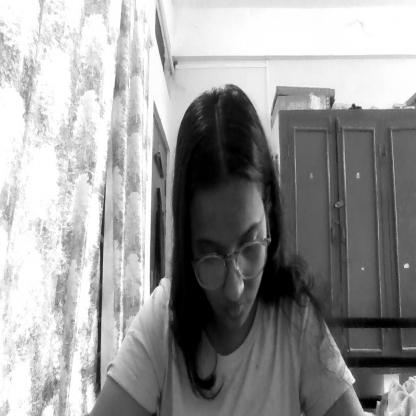Distracted: (187, 108, 270, 333)
